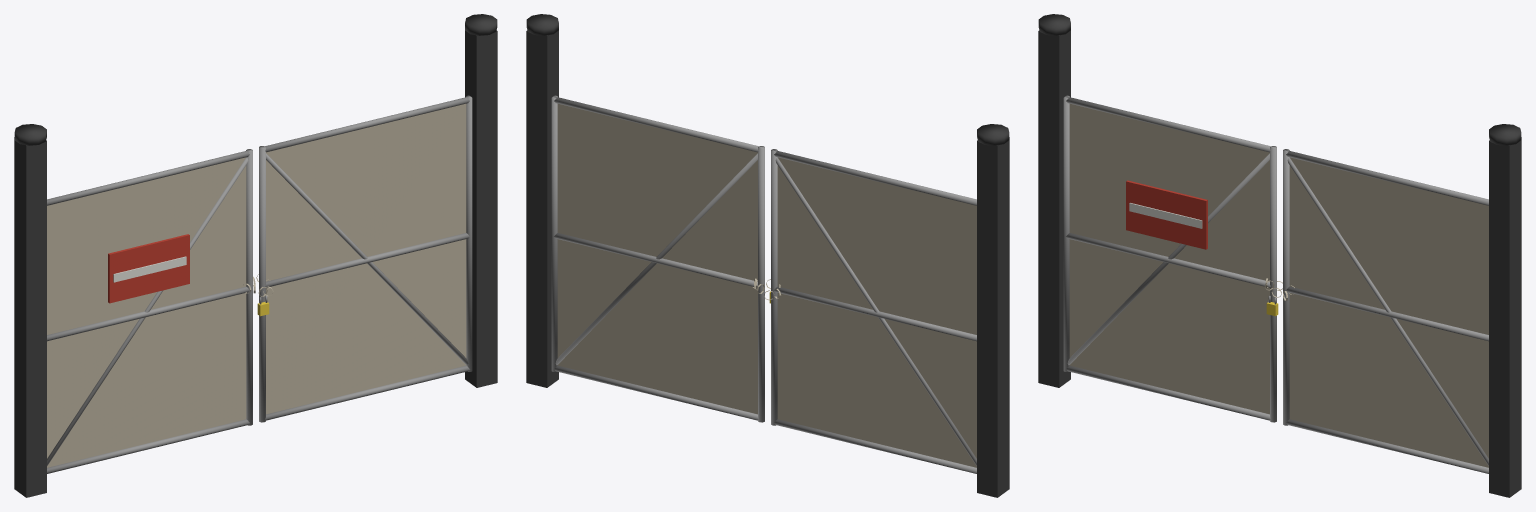
File: hood_gate.glb
3 renders of one model, left to right at view 1: azimuth 30°, elevation 25°; view 2: azimuth 150°, elevation 25°; view 3: azimuth 330°, elevation 25°, orthographic.
Visible parts, largest first — view 1: GateR_v2, GateL_v2, post, brace.001, brace, sign, sign_band; view 2: GateR_v2, GateL_v2, post, brace.001, brace; view 3: GateR_v2, GateL_v2, post, brace, brace.001, sign, sign_band.
Part boxes in pixels (box(x1,y1,x2,y2)): GateR_v2: box(266, 103, 466, 414); GateL_v2: box(47, 157, 246, 467); post: box(14, 14, 497, 497); brace.001: box(259, 95, 472, 422); brace: box(47, 149, 252, 473); sign: box(108, 234, 189, 303); sign_band: box(113, 256, 186, 282); GateR_v2: box(557, 103, 757, 414); GateL_v2: box(777, 157, 976, 467); post: box(526, 14, 1009, 497); brace.001: box(551, 95, 764, 422); brace: box(771, 149, 976, 473); GateR_v2: box(1289, 157, 1488, 467); GateL_v2: box(1069, 103, 1269, 414); post: box(1038, 14, 1521, 497); brace: box(1063, 95, 1276, 422); brace.001: box(1283, 149, 1488, 473); sign: box(1126, 180, 1207, 249); sign_band: box(1129, 203, 1202, 228).
Bounding box in the file's own units: 3.69 × 2.66 × 0.2275.
